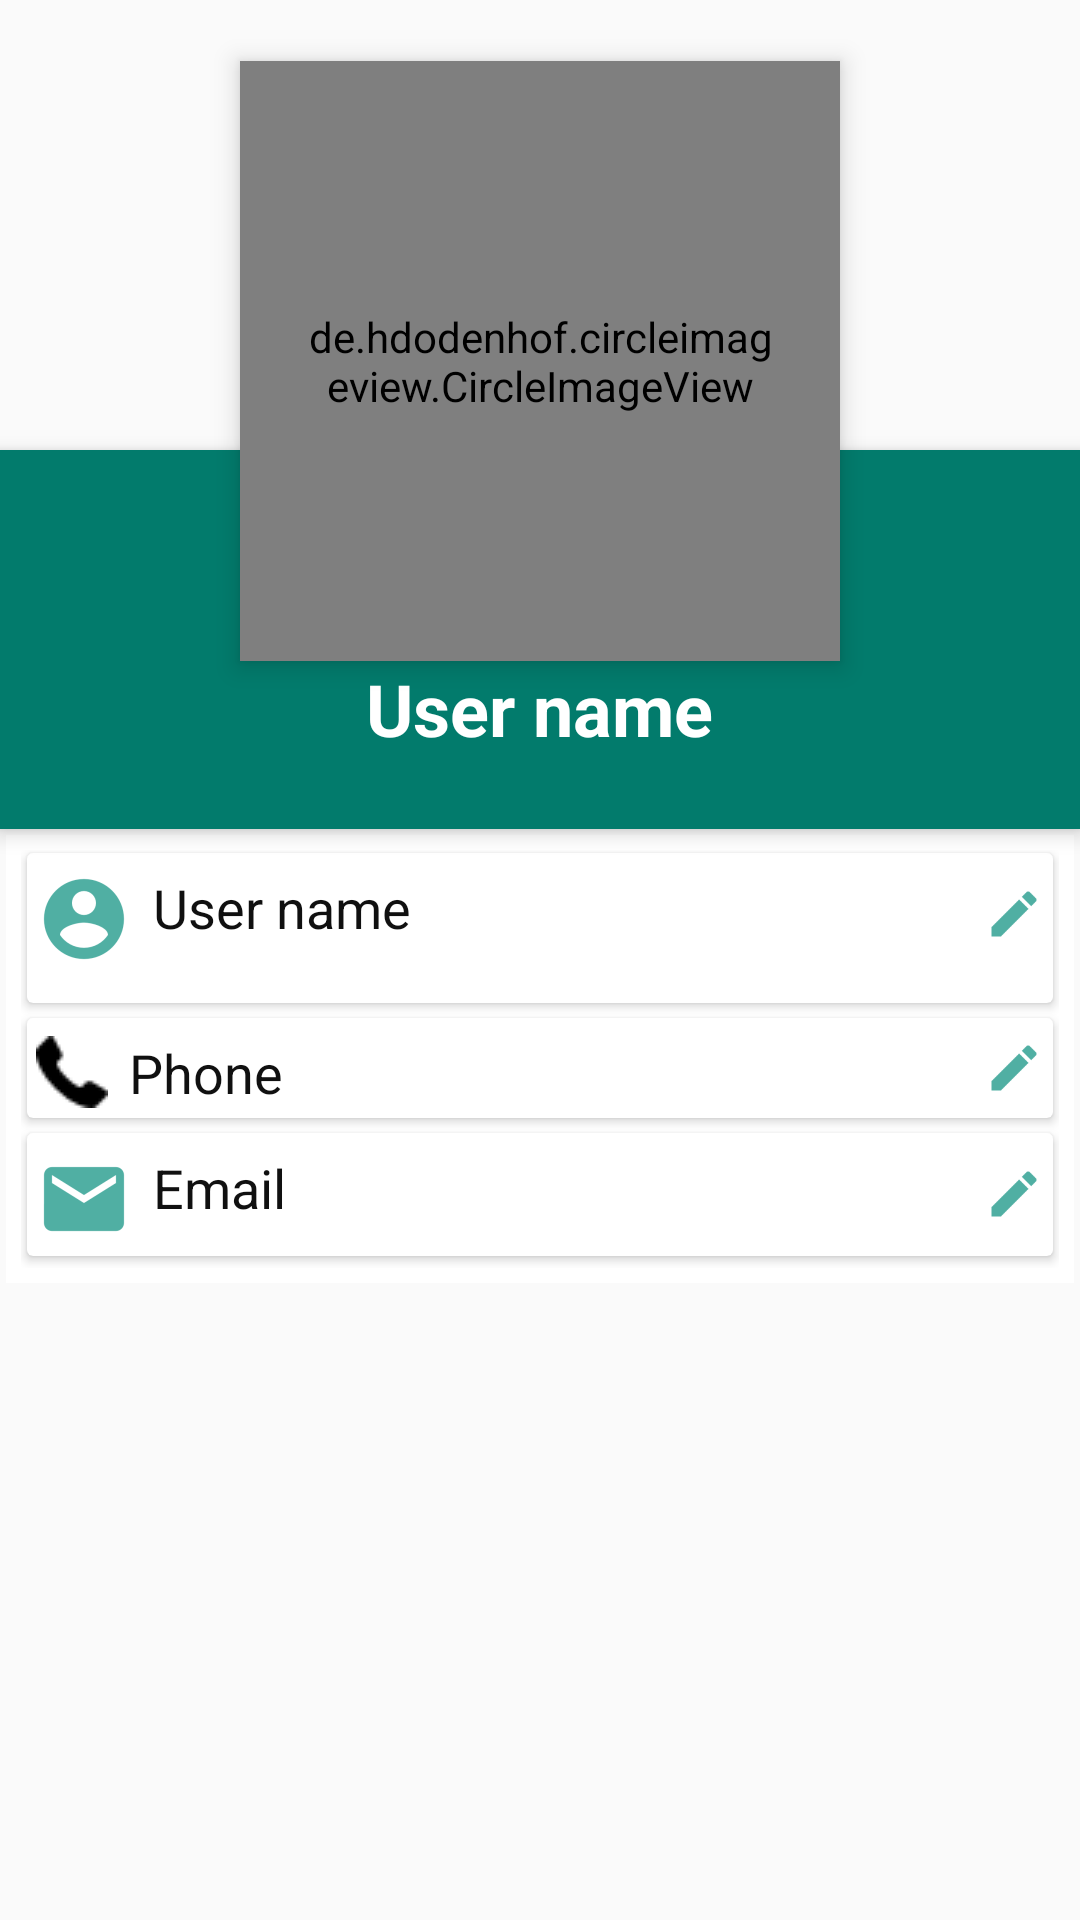

Point at icon controls on the screen. Image size 1080x1920, points as [x,y].
write: [1014,914], [1014,1068], [1014,1194]
